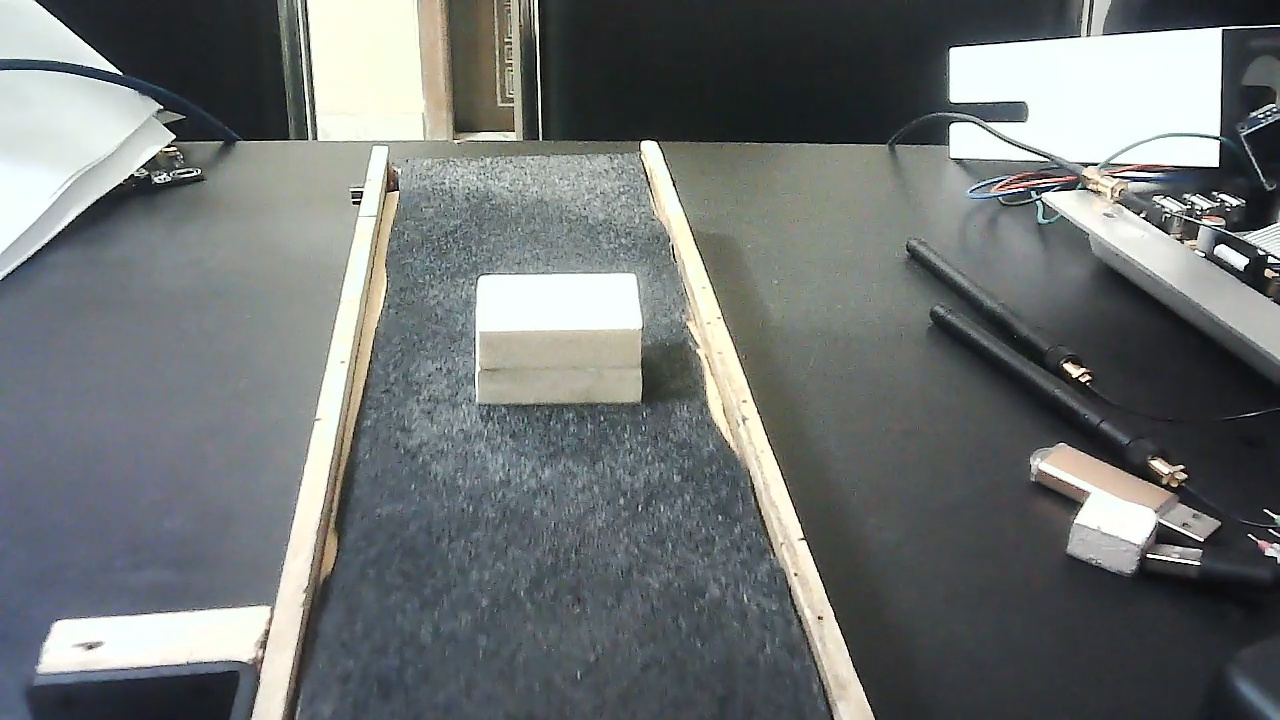BIG: (476, 257, 643, 424)
